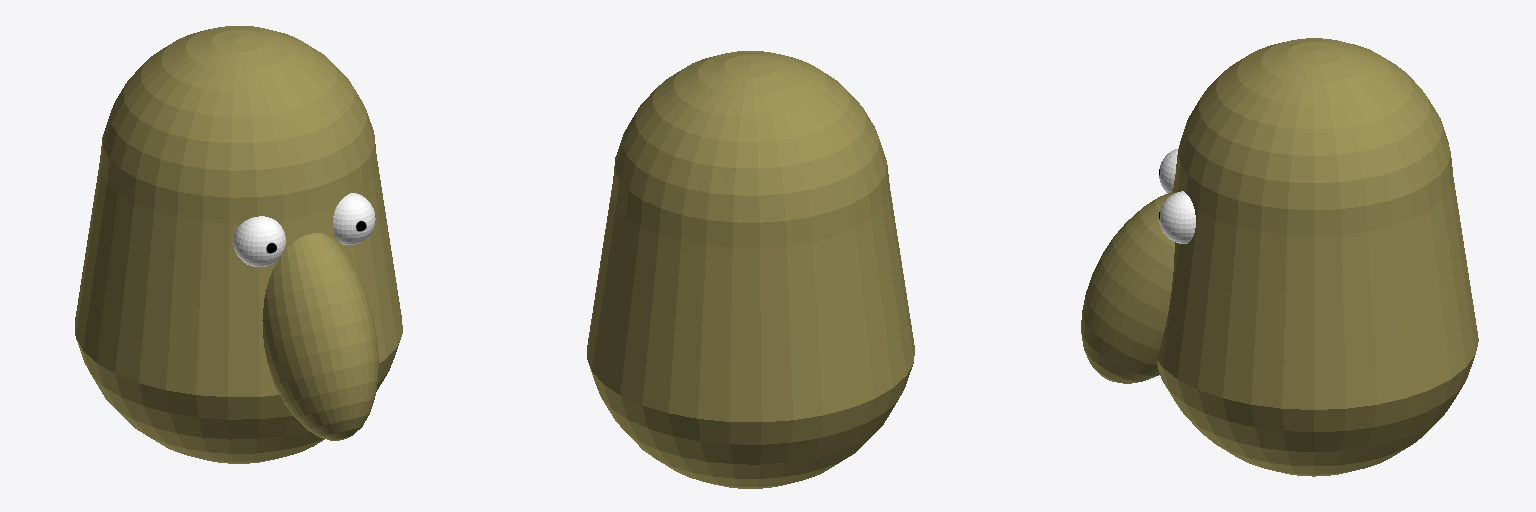
3 views of the same model, side by side, from view 1: azimuth 30°, elevation 25°; view 2: azimuth 150°, elevation 25°; view 3: azimuth 270°, elevation 25° (orthographic).
Visible parts, largest first — view 1: Sphere; view 2: Sphere; view 3: Sphere.
Boxes of the visible parts, x1=… form: Sphere: x1=75, y1=26, x2=402, y2=463; Sphere: x1=587, y1=51, x2=914, y2=488; Sphere: x1=1081, y1=38, x2=1478, y2=476.
Size of the model in its own units: 1.37 by 1.88 by 1.66.
Materials: 2 (1 with a texture image).